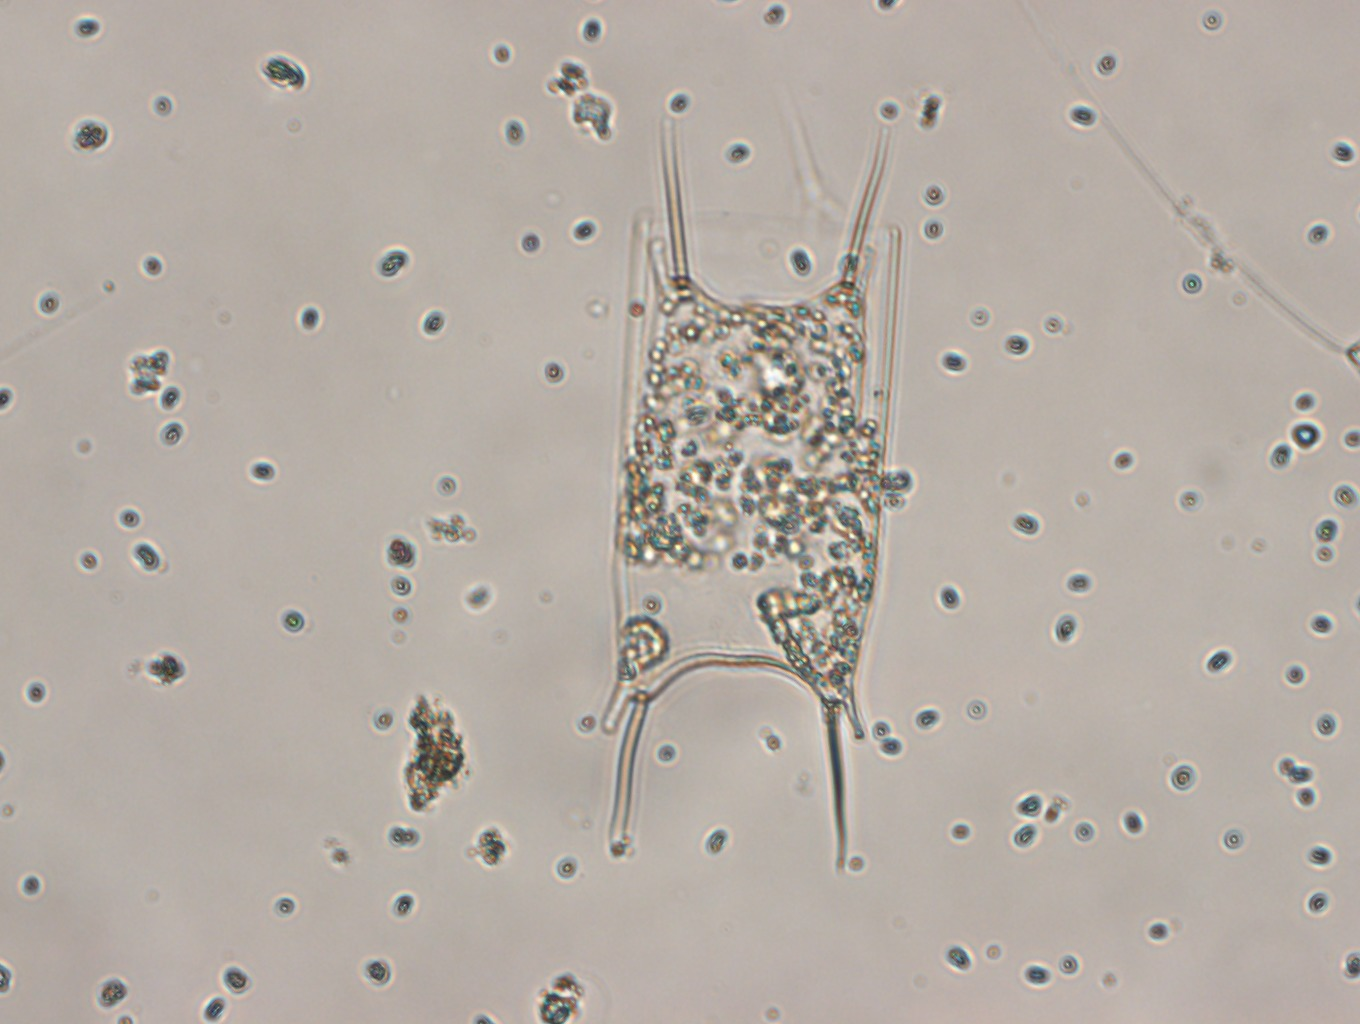biddulphia: (597, 102, 917, 885)
